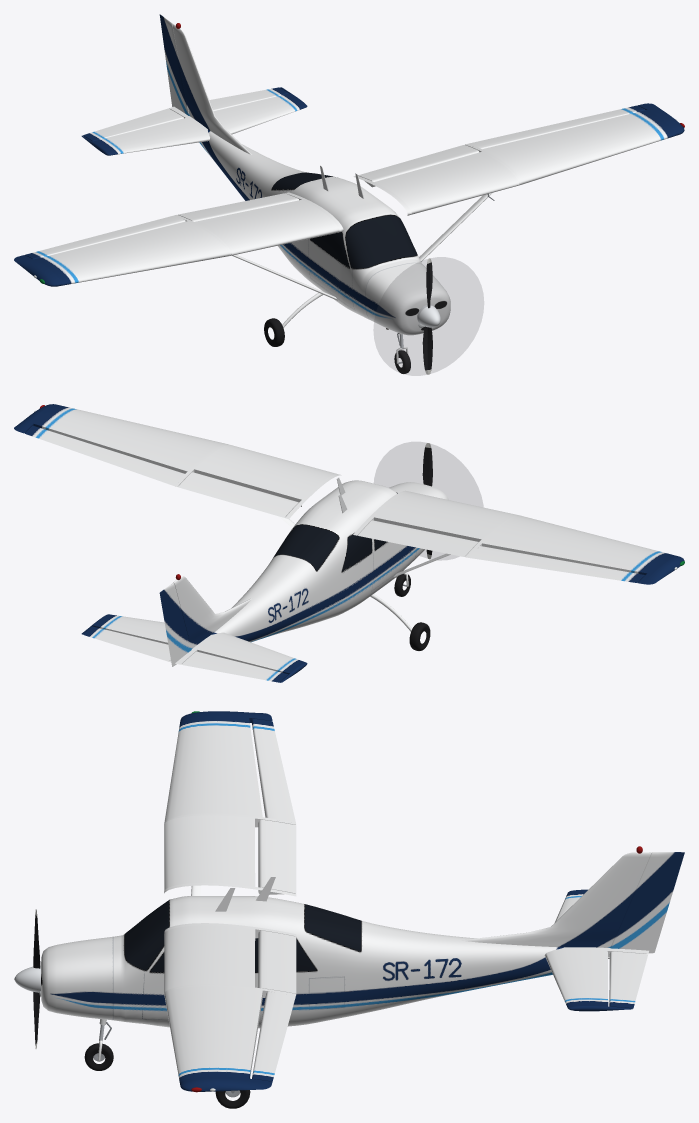
The model's file is trainer.glb.
The picture shows the model from 3 angles, top to bottom: view 1: azimuth 30°, elevation 25°; view 2: azimuth 150°, elevation 25°; view 3: azimuth 270°, elevation 25°; orthographic projection. The views are drawn at different scales.
Visible parts, largest first — view 1: wing_left, wing_right, fuselage_cabin, propeller_disc, fuselage_nose, stabilizer, fuselage_tail, fin, elevator, aileron_left, flap_left, aileron_right (+4 smaller); view 2: wing_left, fuselage_cabin, wing_right, fuselage_tail, propeller_disc, stabilizer, elevator, flap_left, aileron_left, aileron_right, flap_right, fin (+4 smaller); view 3: fuselage_cabin, wing_right, wing_left, fuselage_tail, fuselage_nose, fin, stabilizer, rudder, flap_right, aileron_right, aileron_left, flap_left (+2 smaller).
Boxes of the visible parts, bbox=[...] form: wing_left: bbox=[353, 103, 684, 215]; wing_right: bbox=[14, 192, 343, 286]; fuselage_cabin: bbox=[265, 171, 420, 318]; propeller_disc: bbox=[374, 257, 483, 375]; fuselage_nose: bbox=[361, 258, 450, 335]; stabilizer: bbox=[81, 87, 307, 155]; fuselage_tail: bbox=[199, 129, 303, 200]; fin: bbox=[173, 24, 251, 154]; elevator: bbox=[83, 87, 288, 141]; aileron_left: bbox=[467, 105, 645, 149]; flap_left: bbox=[358, 145, 479, 187]; aileron_right: bbox=[25, 215, 185, 259]; wing_left: bbox=[14, 404, 341, 518]; fuselage_cabin: bbox=[269, 480, 423, 625]; wing_right: bbox=[353, 490, 684, 584]; fuselage_tail: bbox=[212, 560, 313, 642]; propeller_disc: bbox=[374, 442, 482, 559]; stabilizer: bbox=[81, 614, 307, 682]; elevator: bbox=[83, 626, 288, 682]; flap_left: bbox=[178, 472, 298, 517]; aileron_left: bbox=[25, 425, 184, 486]; aileron_right: bbox=[467, 546, 645, 582]; flap_right: bbox=[358, 520, 478, 556]; fin: bbox=[173, 576, 252, 648]; fuselage_cabin: bbox=[123, 896, 372, 1028]; wing_right: bbox=[164, 711, 296, 896]; wing_left: bbox=[164, 923, 296, 1091]; fuselage_tail: bbox=[372, 923, 563, 1011]; fuselage_nose: bbox=[41, 935, 122, 1021]; fin: bbox=[462, 852, 651, 947]; stabilizer: bbox=[544, 889, 648, 1011]; rudder: bbox=[610, 852, 684, 953]; flap_right: bbox=[258, 820, 296, 894]; aileron_right: bbox=[251, 719, 295, 823]; aileron_left: bbox=[252, 991, 295, 1081]; flap_left: bbox=[258, 930, 296, 993].
Bounding box in the file's own units: 11.04 × 3.05 × 8.29.
3 materials, 2 textured.
